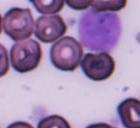L: (77, 8, 124, 52)
